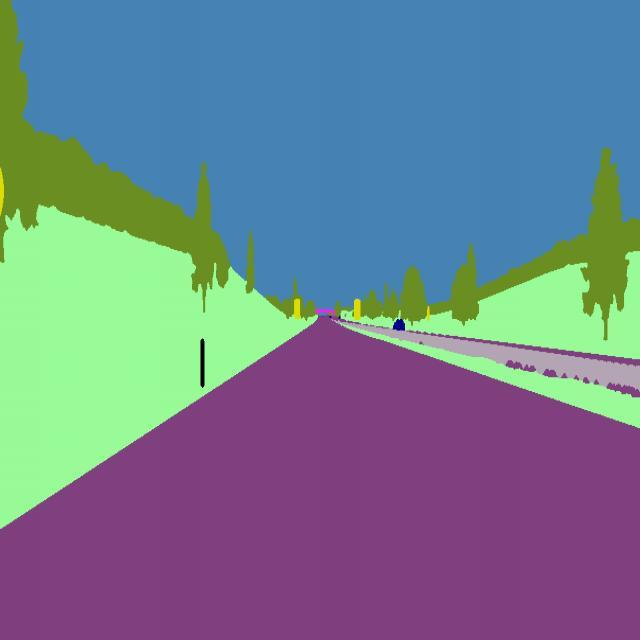safe: (392, 316, 407, 333)
